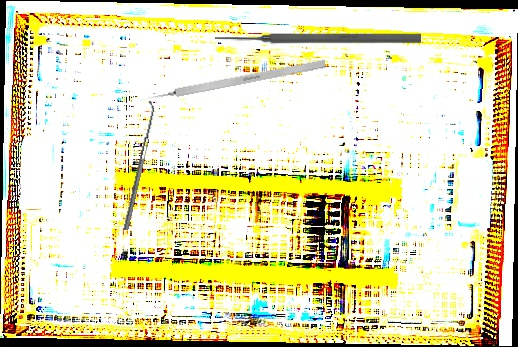Hook Surgical: (138, 59, 327, 104)
Pusher: (215, 31, 421, 45)
Spatula Surgical: (118, 100, 158, 231)
